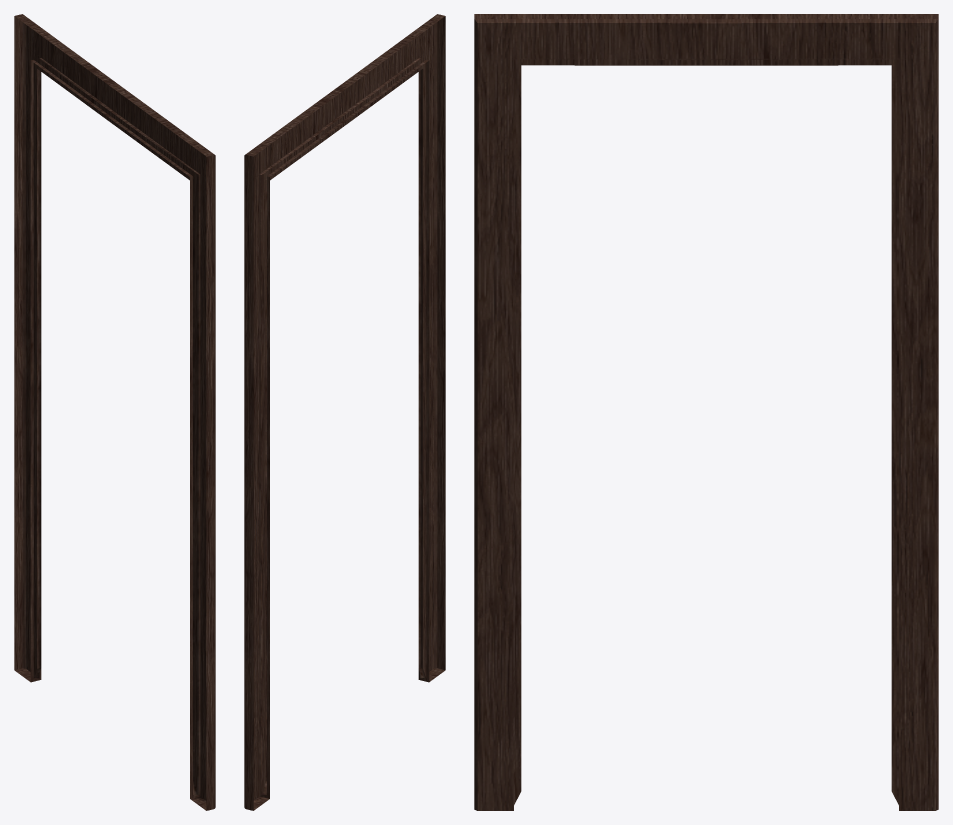
Rendered from SM_Frame_Door.fbx.
The picture shows the model from 3 angles, left to right: view 1: azimuth 30°, elevation 25°; view 2: azimuth 150°, elevation 25°; view 3: azimuth 270°, elevation 25°; orthographic projection. The views are drawn at different scales.
Parts seen in each view (by area): view 1: SM_Frame_Door_LOD0; view 2: SM_Frame_Door_LOD0; view 3: SM_Frame_Door_LOD0.
Part boxes in pixels (bbox=[...]): SM_Frame_Door_LOD0: bbox=[14, 14, 215, 810]; SM_Frame_Door_LOD0: bbox=[244, 14, 445, 810]; SM_Frame_Door_LOD0: bbox=[474, 14, 938, 810].
Bounding box in the file's own units: 3.86 × 123 × 230.
1 material, 1 textured.
